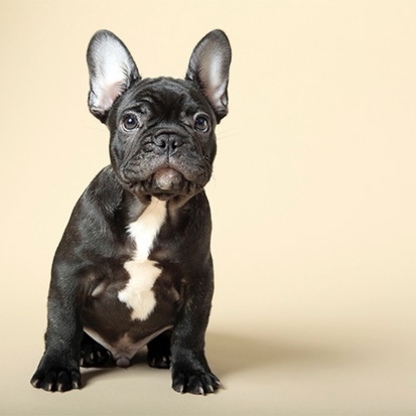bulldog: (29, 26, 236, 401)
